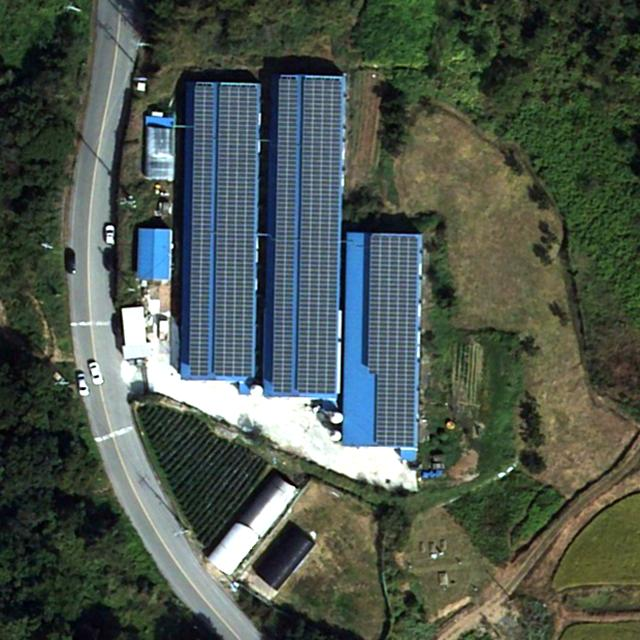panel: (295, 77, 346, 394), (211, 81, 258, 378), (368, 232, 420, 450), (271, 77, 301, 394), (189, 81, 215, 377)
